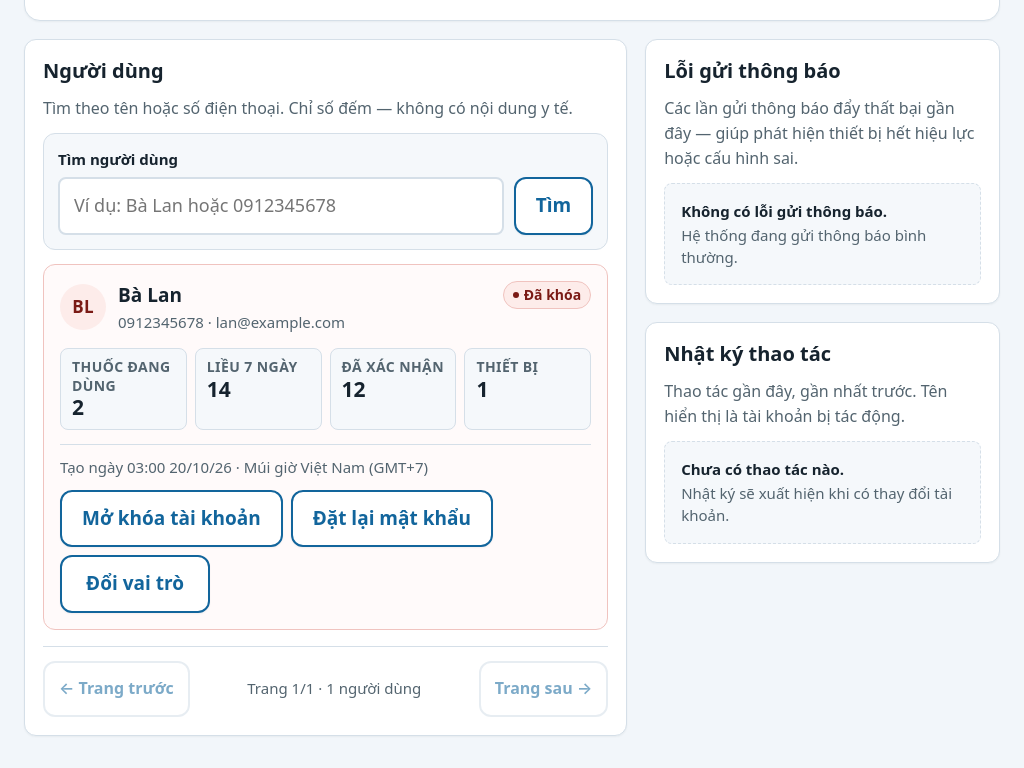
Test: Khu vực quản trị (chỉ đọc + khóa/mật khẩu) › mở khóa: tài khoản đang khóa hiện nút “Mở khóa” và gọi API disabled=false
(page scrolled)
expect the heading "Bà Lan" is shown: met, box [118,282,182,308]
expect the text "Đã khóa" is shown: met, box [503,281,591,309]
Click the button with aria-label "Mở khóa tài khoản Bà Lan" at [171, 519], box [60,490,283,547]
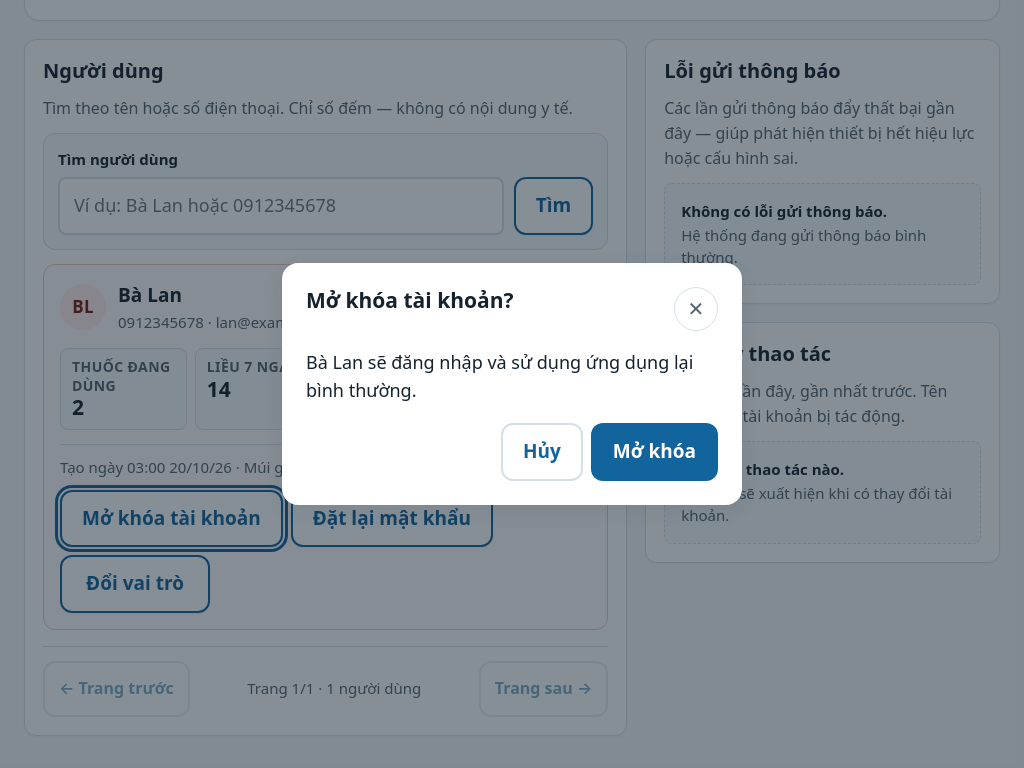
Click the button "Mở khóa" at [654, 452], box [591,423,718,481]
(page scrolled)
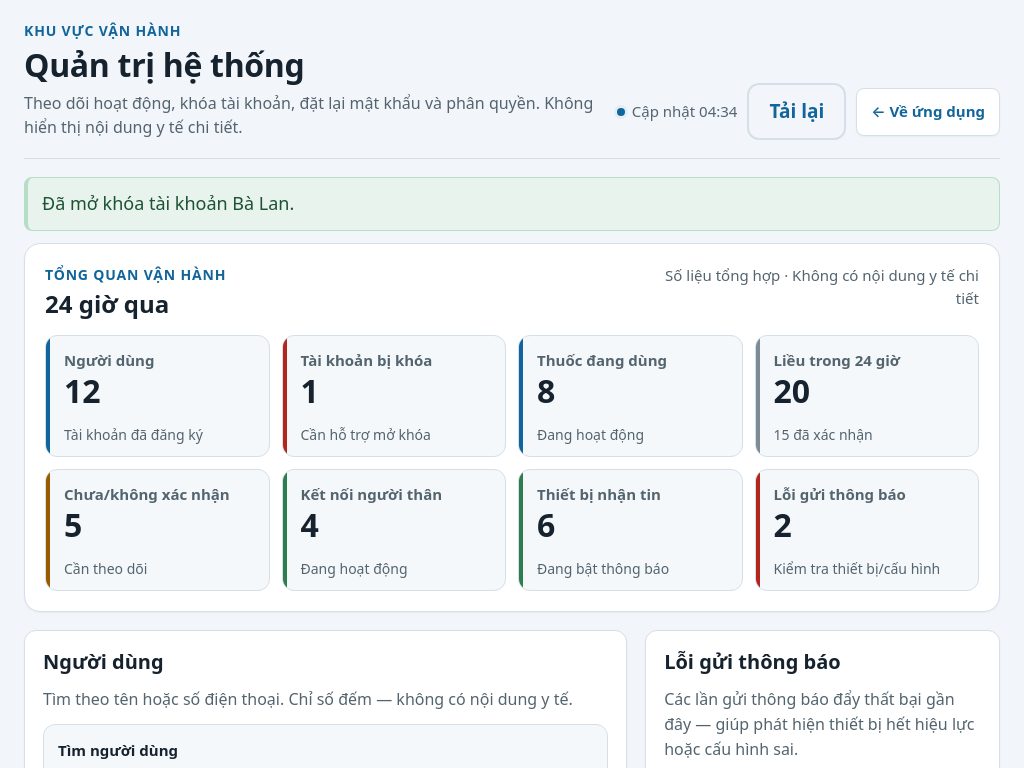
expect the text "Đã mở khóa tài khoản Bà Lan." is shown: met, box [42,191,294,215]
